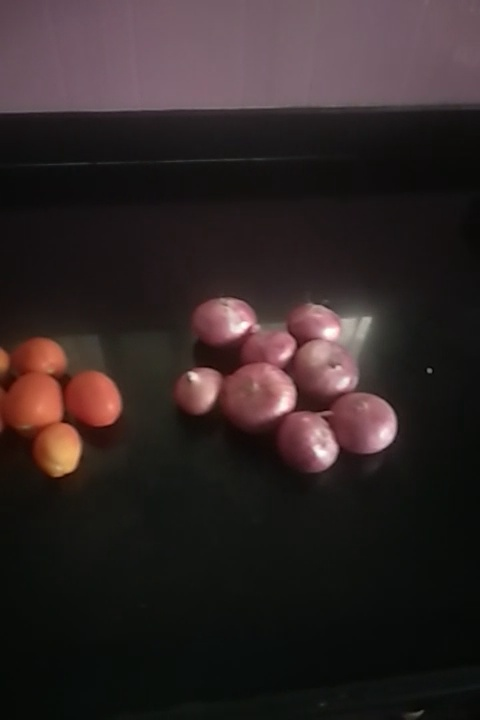onion: (337, 388, 398, 456), (219, 371, 295, 425), (279, 412, 335, 483), (295, 342, 358, 398), (190, 296, 254, 345), (173, 364, 217, 426), (245, 319, 295, 367), (291, 303, 348, 342)
tomato: (69, 374, 129, 431), (14, 374, 63, 436), (36, 426, 85, 485), (13, 339, 64, 387)
